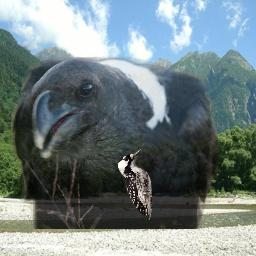Crow: (11, 56, 218, 229)
Woodpecker: (116, 148, 152, 220)
